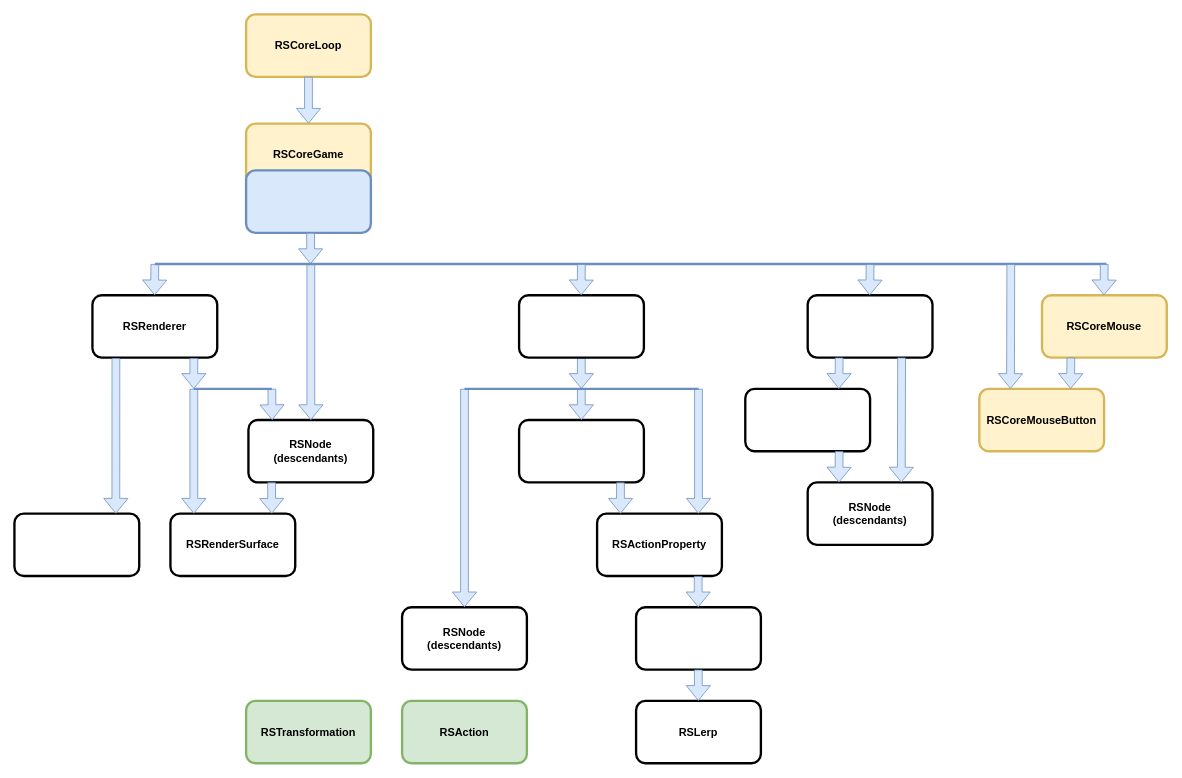
Image size: 1182x778. Some labels were removed from this diagram. The shapes that lost their labels are listed below. From the top down, each one's centre as x and y in pixels, then its label:
At (308,201): "RSGame".
At (581,326): "RSActions".
At (869,326): "RSPhysics".
At (807,419): "RSPhysicsDef".
At (581,450): "RSActionManager".
At (76,544): "RSFrameTimer".
At (698,638): "RSLerpProperty".
